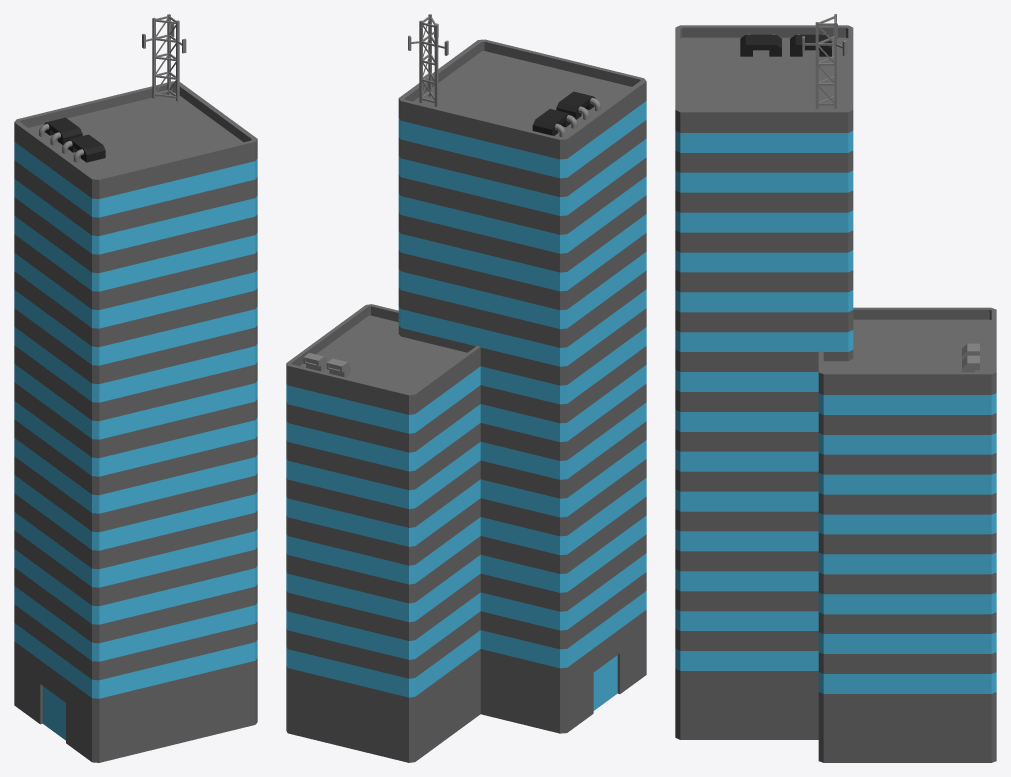
File: Skyscraper_02.fbx
3 views of the same model, side by side, from view 1: azimuth 30°, elevation 25°; view 2: azimuth 150°, elevation 25°; view 3: azimuth 270°, elevation 25° (orthographic). The views are drawn at different scales.
Visible parts, largest first — view 1: Skyscraper_02; view 2: Skyscraper_02; view 3: Skyscraper_02.
Boxes of the visible parts, x1,y1,x2,y2 form: Skyscraper_02: (14, 14, 257, 762); Skyscraper_02: (286, 14, 646, 762); Skyscraper_02: (675, 14, 996, 762).
Size of the model in its own units: 26.8 by 80.58 by 33.11.
